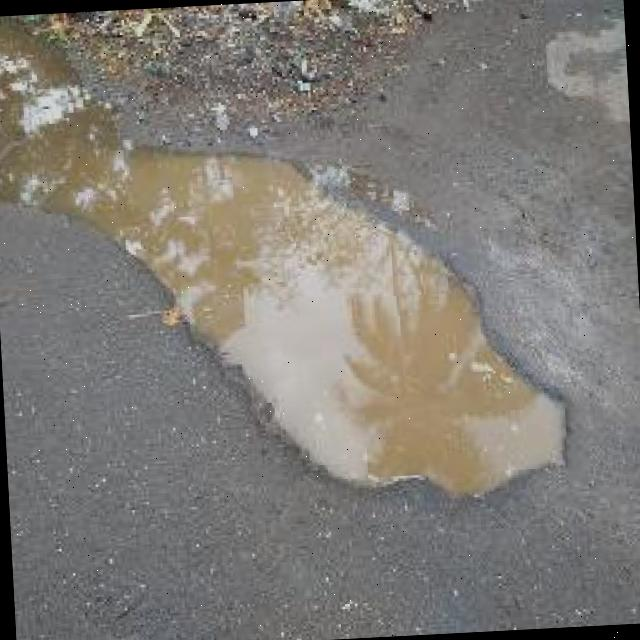waterlogging: (0, 99, 509, 510)
